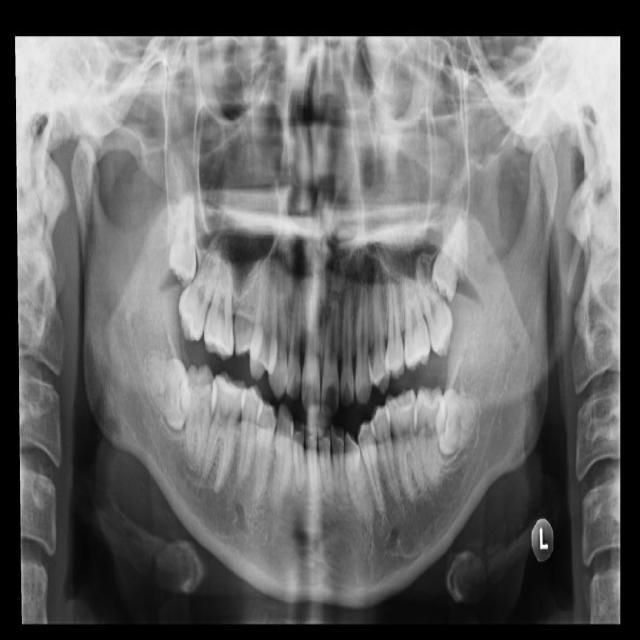Filling: (392, 390, 412, 411)
impacted tooth: (143, 355, 192, 430), (429, 214, 465, 298), (437, 389, 479, 455), (170, 190, 196, 286)
